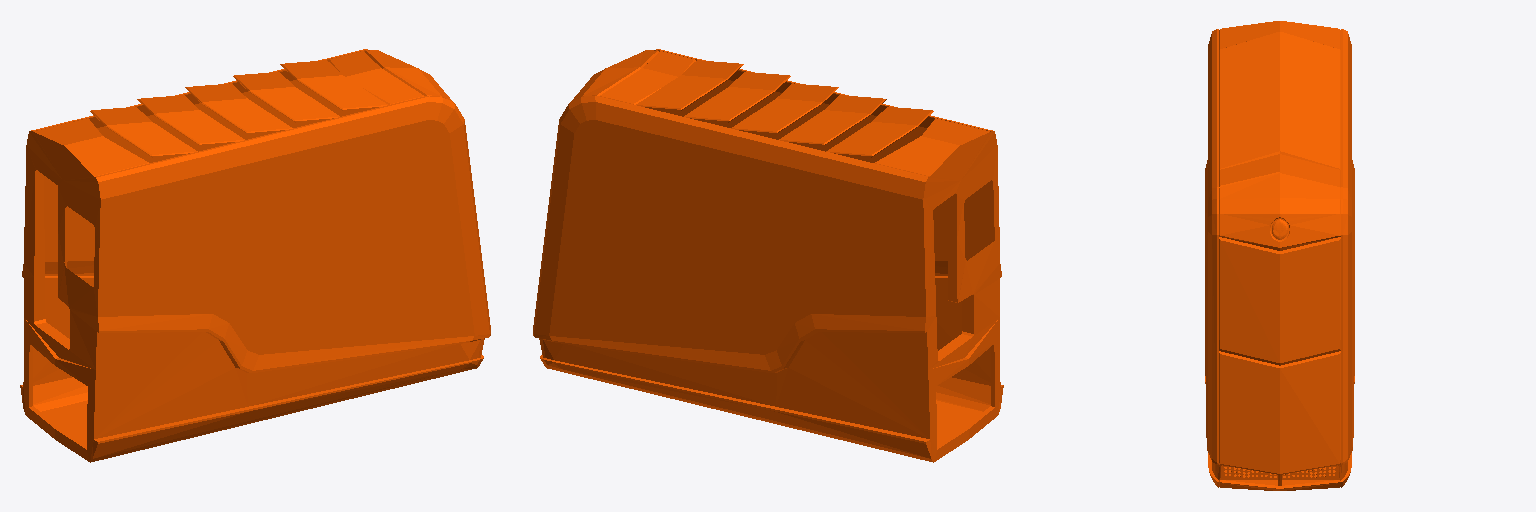
URDF robot description (Desktop_350bc7d9fbc5b90e67a1113f1f5f7982):
<?xml version="1.0" ?>
<robot name="Desktop_350bc7d9fbc5b90e67a1113f1f5f7982">
   <material name="obj_color">
      <color rgba="1.0 0.423529411765 0.0392156862745 1.0"/>
   </material>
   <link name="top">
      <inertial>
         <origin rpy="0.001932056426980065 0.003471754572871862 0.004710200078580523" xyz="-0.009240721590853576 -4.693869063467805e-05 -0.002356013982715768"/>
         <mass value="1.244559096673819"/>
         <inertia ixx="0.001938188971801038" ixy="-3.338093927341956e-09" ixz="9.697762514135001e-05" iyy="0.004710200078575481" iyz="1.243425799998881e-09" izz="0.003465622028055931"/>
      </inertial>
      <visual>
         <origin rpy="0 0 0" xyz="0 0 0"/>
         <geometry>
            <mesh filename="top_watertight_tiny.stl" scale="1 1 1"/>
         </geometry>
         <material name="obj_color"/>
      </visual>
      <collision>
         <origin rpy="0 0 0" xyz="0 0 0"/>
         <geometry>
            <mesh filename="top_watertight_tiny.obj" scale="1 1 1"/>
         </geometry>
      </collision>
   </link>
   <link name="bottom">
      <inertial>
         <origin rpy="1.633333333199431e-08 1.633333333199431e-08 1.633333333362855e-08" xyz="0.3464080000000008 0.3464080000000008 0.3464080000000008"/>
         <mass value="0.0009800000000000017"/>
         <inertia ixx="1.633333333253906e-08" ixy="5.447480642029219e-19" ixz="5.447480642029219e-19" iyy="1.633333333253906e-08" iyz="5.447480642029219e-19" izz="1.633333333253906e-08"/>
      </inertial>
      <visual>
         <origin rpy="0 0 0" xyz="0 0 0"/>
         <geometry>
            <mesh filename="bottom_watertight_tiny.stl" scale="1 1 1"/>
         </geometry>
         <material name="obj_color"/>
      </visual>
   </link>
   <link name="world"/>
   <joint name="world_to_base" type="fixed">
      <origin xyz="0 0 0"/>
      <axis xyz="0 0 0"/>
      <parent link="world"/>
      <child link="bottom"/>
   </joint>
   <joint name="rotation" type="revolute">
      <origin xyz="0 0 0"/>
      <axis xyz="0 0 -1"/>
      <parent link="bottom"/>
      <child link="top"/>
      <dynamics damping="1.0" friction="1.0"/>
      <limit effort="0.1" velocity="0.1" lower="0" upper="0.001"/>
   </joint>
</robot>

--- Facts derived from the render (not from the file) ---
3 views of the same robot in one strip: view 1: azimuth 30°, elevation 25°; view 2: azimuth 150°, elevation 25°; view 3: azimuth 270°, elevation 25° (orthographic).
Model Desktop_350bc7d9fbc5b90e67a1113f1f5f7982 with 3 links and 2 joints (1 revolute, 1 fixed), rooted at world, posed every joint at zero.
Links seen in each view (by area): view 1: top; view 2: top; view 3: top.
Boxes of the visible links, x1,y1,x2,y2 form: top: [20, 49, 490, 462]; top: [533, 49, 1003, 462]; top: [1205, 21, 1354, 490].
Bounding box of the posed robot: 0.1847 × 0.06 × 0.1293 m (x, y, z).
Meshes: 2 distinct files referenced, 1 mesh visuals loaded (1 binary STL); not drawn: 1 (reference not matched to a file when rendering).
